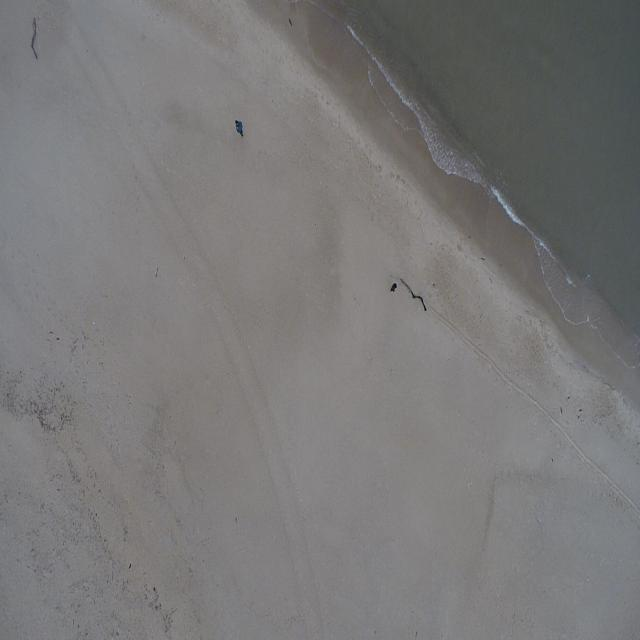p3rson: (236, 120, 243, 136), (390, 282, 398, 294)
